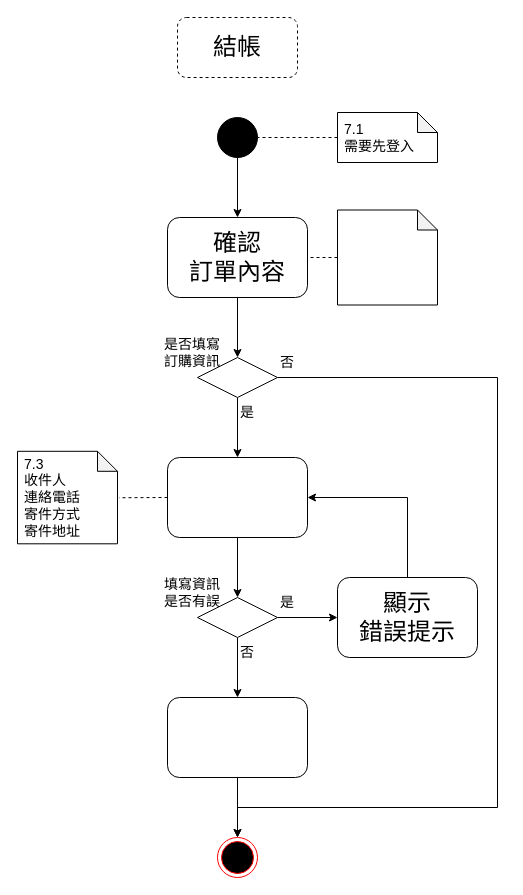
Image size: 523x895. Some labels were removed from this diagram. The centre of each missing label's shape, as x and y in pixels:
"7.2 商品名稱 商品圖片 商品售價 總金額" belongs at [387,257].
"填寫 訂購資訊" belongs at [237,497].
"訂單成立" belongs at [237,737].
